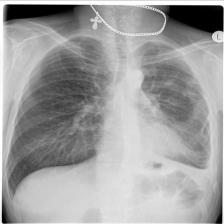tuberculosis: (7, 32, 213, 207)
